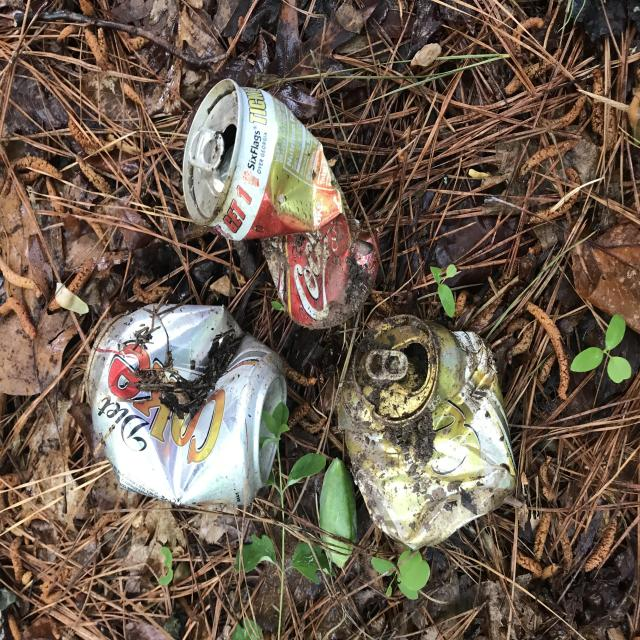litter: (87, 73, 515, 545)
